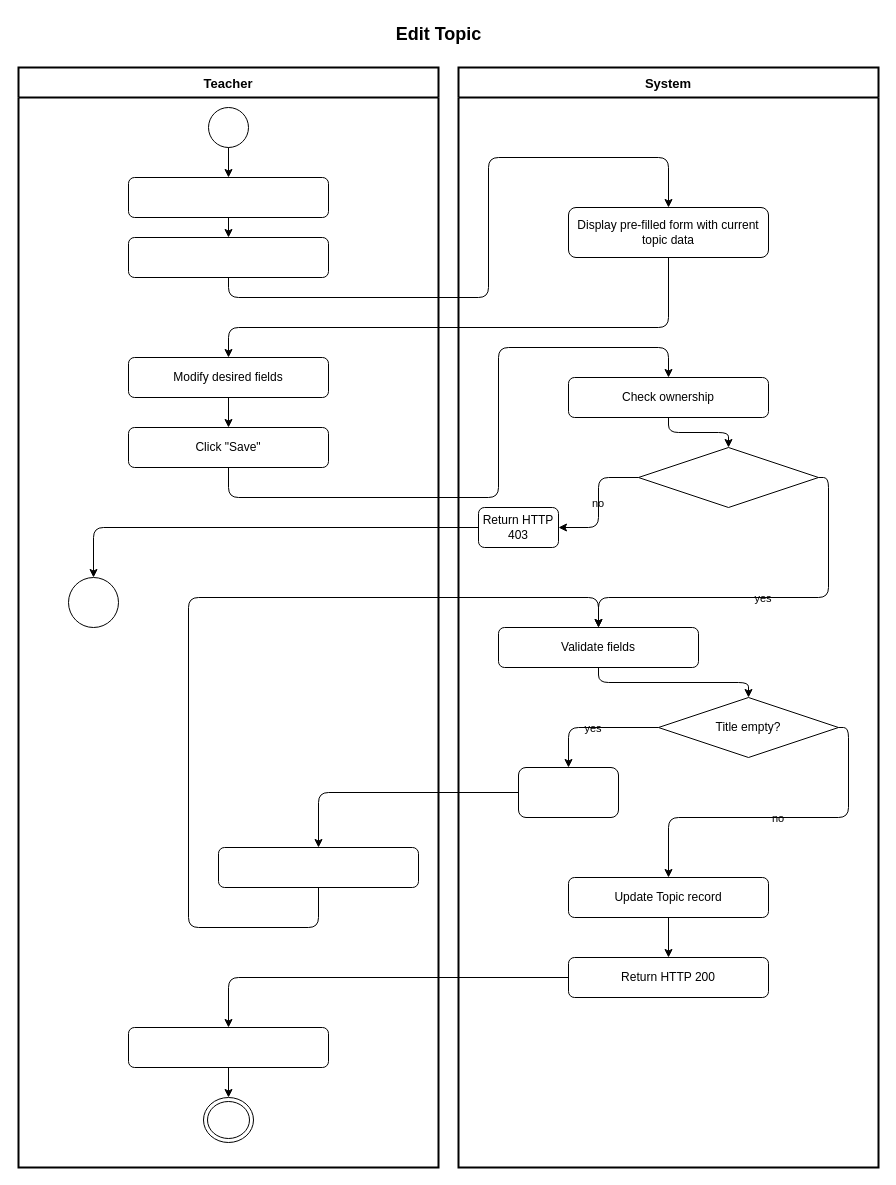
Image size: 896x1185. Some labels were removed from this diagram. Each missing label, with the centre of its shape:
Click "Edit Topic": pixel 228 257
Correct and resubmit: pixel 318 867
Navigate to topic: pixel 228 197
Return HTTP 400: pixel 568 792
See updated topic: pixel 228 1047
User is owner?: pixel 728 477
